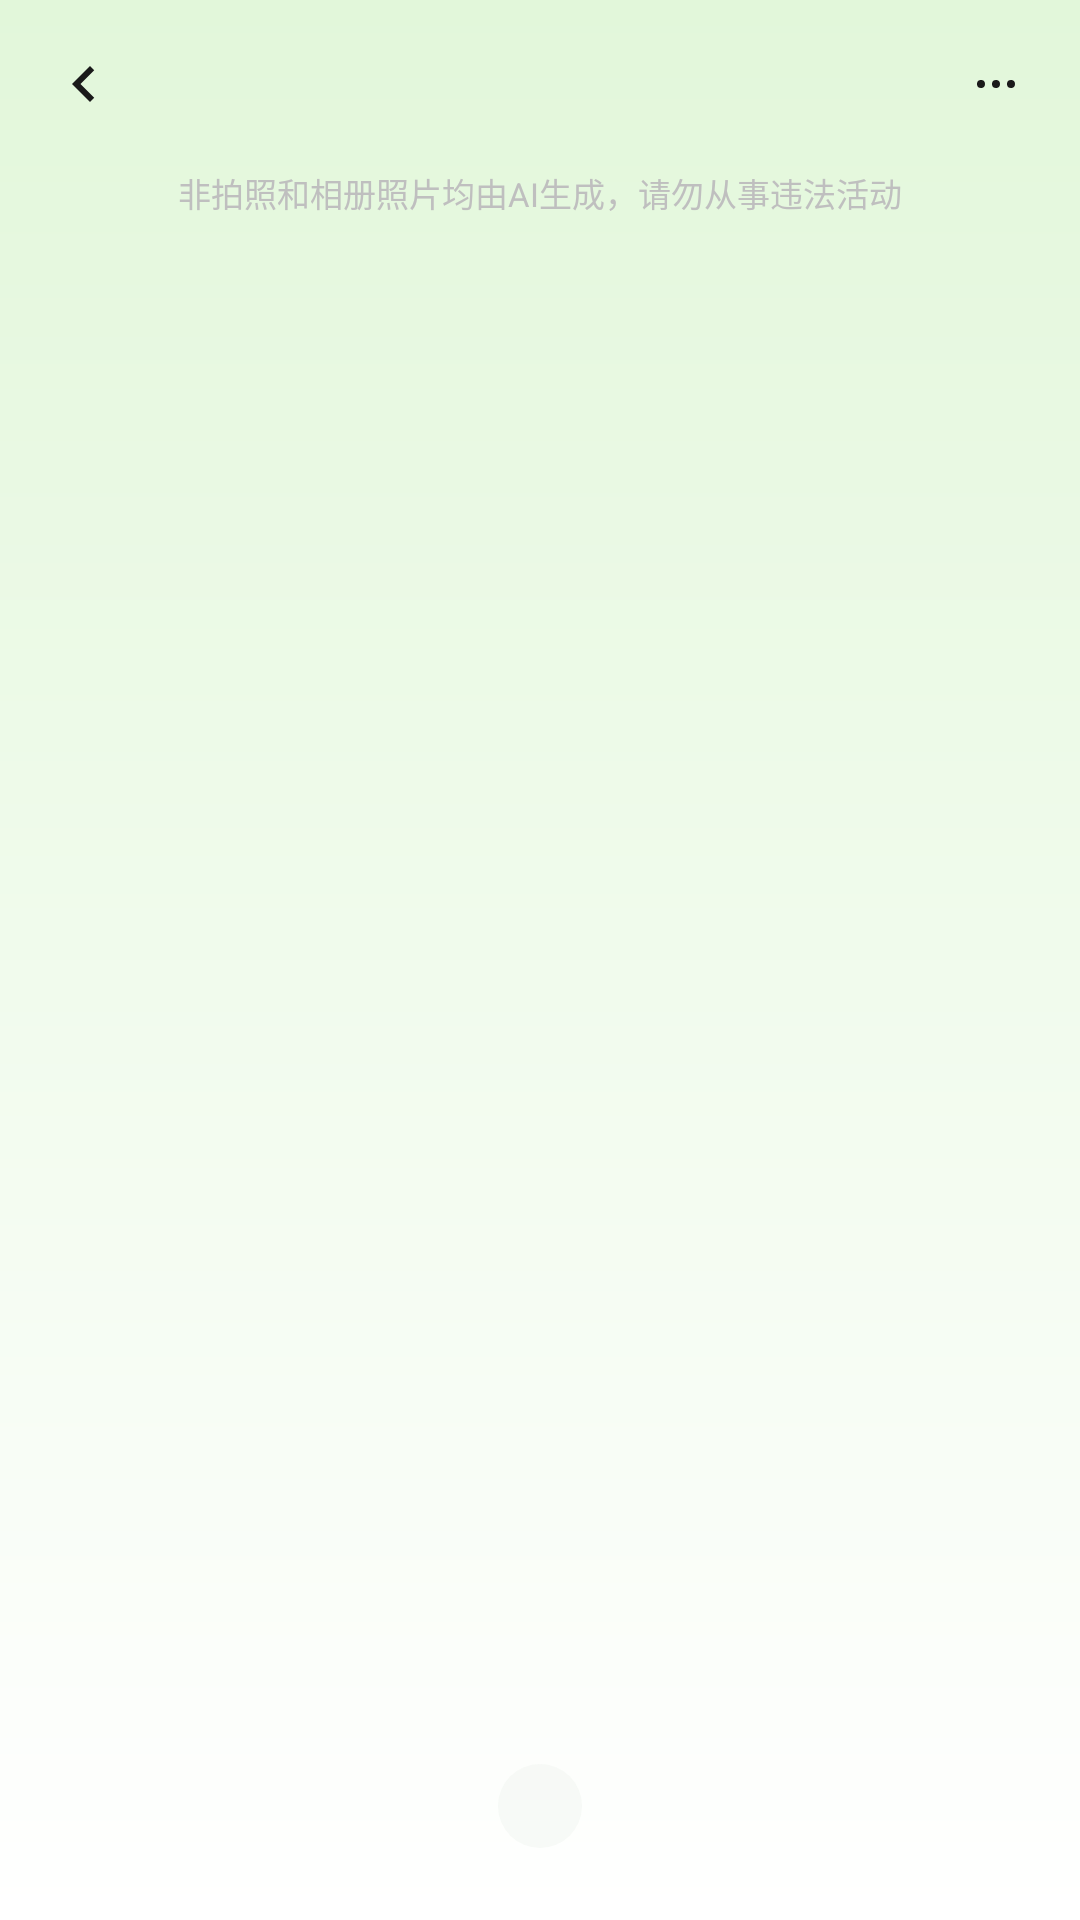

Where icons sit on this 1080w x 1920h app screen, as (x1, y1, x2, y2):
更多: (977, 80, 1015, 88)
返回: (72, 66, 94, 102)
